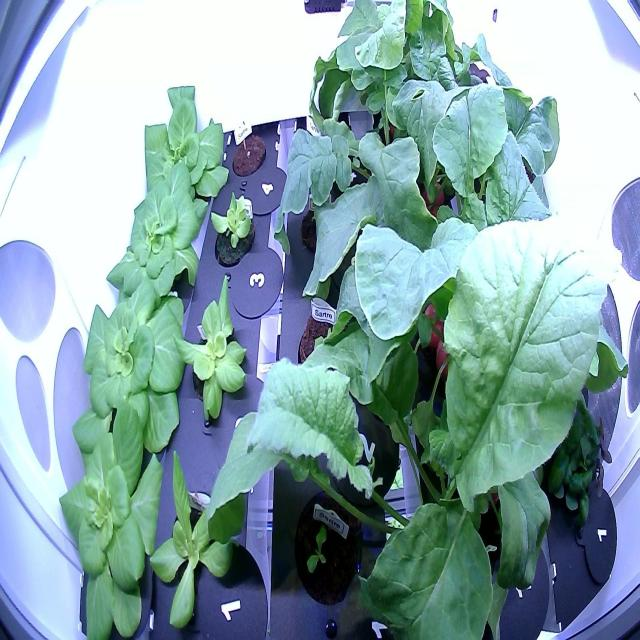pod: (227, 125, 267, 184)
young: (41, 400, 179, 640), (44, 268, 192, 461), (144, 437, 255, 637), (102, 161, 220, 319), (170, 268, 259, 432), (136, 75, 229, 207), (289, 488, 366, 611), (206, 186, 258, 270)
